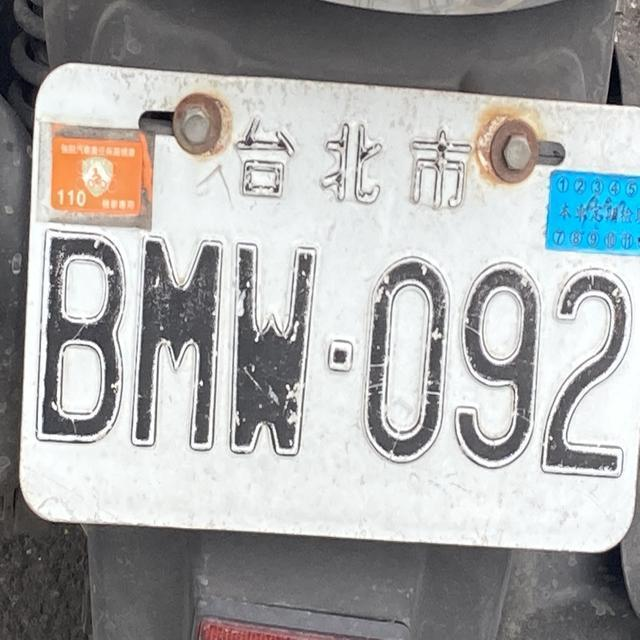license: (34, 223, 637, 491)
